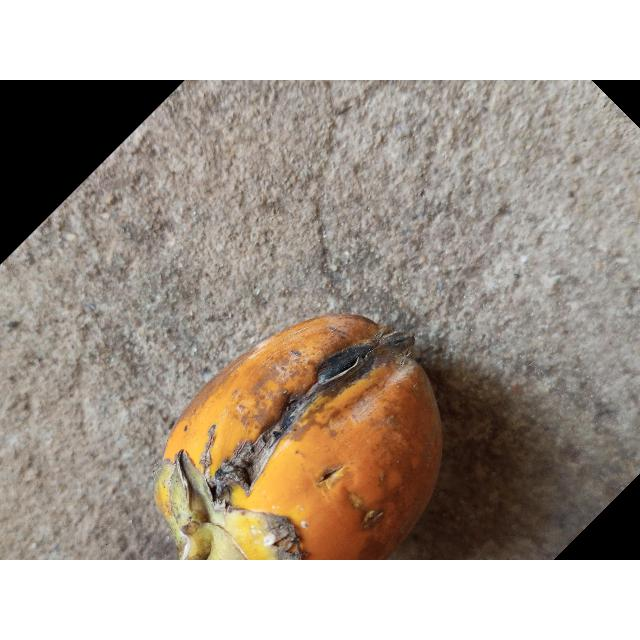damaged: (154, 314, 444, 560)
